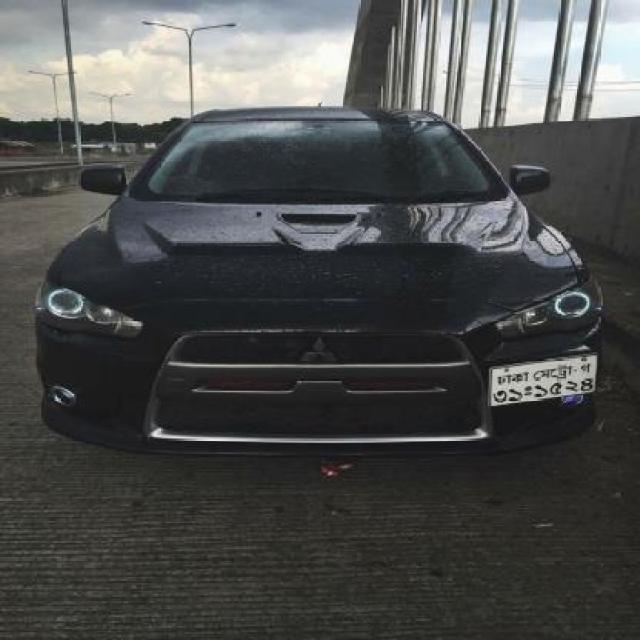numberplate: (486, 351, 598, 408)
